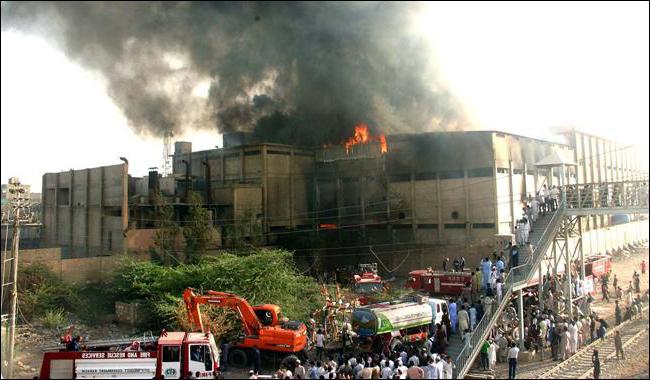fire: (338, 122, 390, 155)
